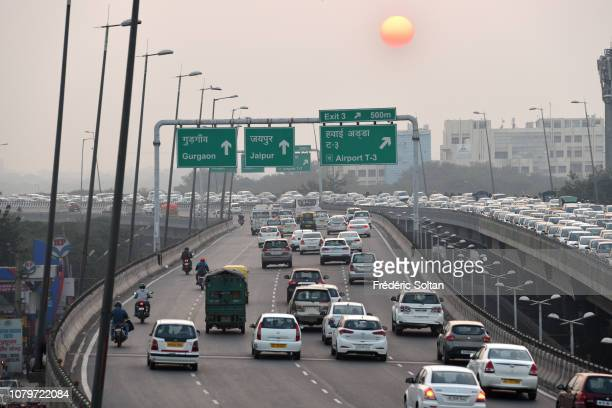bike: (111, 303, 128, 349), (133, 284, 150, 325), (181, 249, 193, 277), (196, 259, 208, 287), (238, 212, 243, 227)
bus: (296, 197, 319, 221)
car: (468, 345, 538, 400), (403, 366, 483, 408), (149, 320, 199, 370), (253, 312, 302, 360), (392, 292, 443, 334), (436, 321, 489, 361), (336, 317, 386, 358), (559, 371, 612, 408), (290, 286, 330, 328), (289, 268, 326, 296), (349, 253, 377, 287), (261, 240, 293, 268), (320, 238, 349, 263), (300, 232, 324, 255), (341, 230, 361, 252), (251, 207, 271, 229), (347, 219, 369, 238), (327, 215, 347, 234), (560, 198, 580, 216), (259, 226, 278, 244), (551, 225, 570, 242), (277, 217, 296, 233), (568, 230, 583, 249), (535, 221, 552, 237), (596, 240, 611, 258), (580, 235, 594, 254), (520, 215, 534, 230), (395, 187, 409, 200), (230, 201, 241, 214)
rickshaw: (204, 277, 246, 329), (300, 212, 318, 229)
